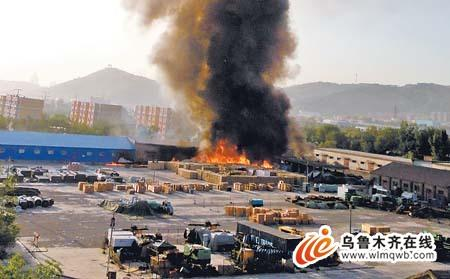fire: (189, 146, 282, 170)
smoke: (157, 3, 302, 144)
